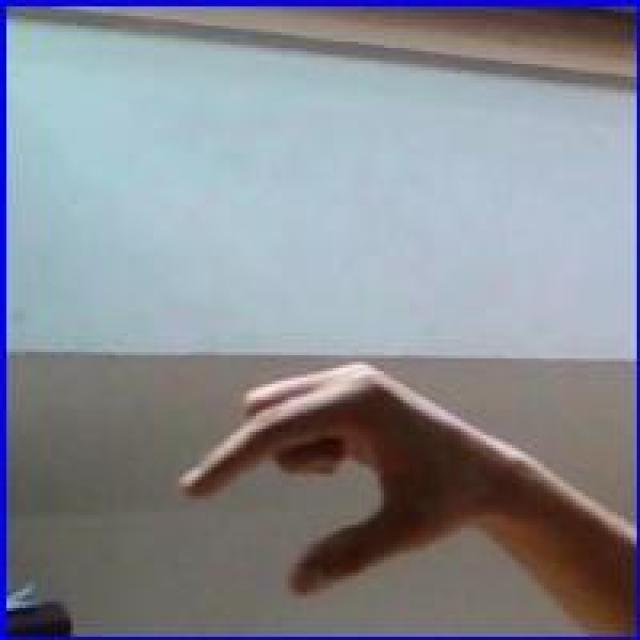Q: (174, 357, 485, 603)
